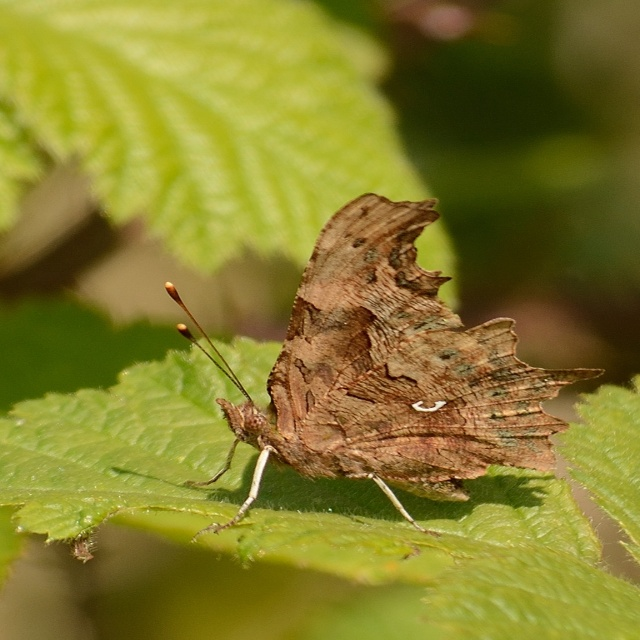Butterfly: (164, 193, 604, 532)
